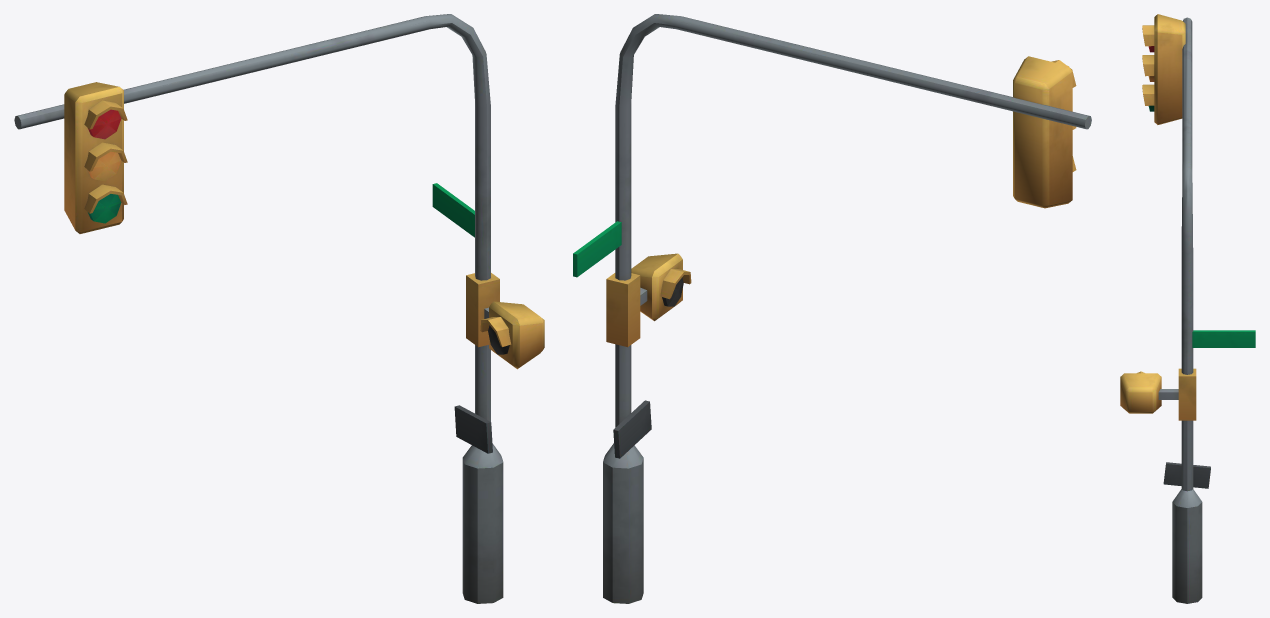
The model's file is trafficlight_C.glb.
3 views of the same model, side by side, from view 1: azimuth 30°, elevation 25°; view 2: azimuth 150°, elevation 25°; view 3: azimuth 270°, elevation 25° (orthographic). The views are drawn at different scales.
Parts seen in each view (by area): view 1: trafficlight_C; view 2: trafficlight_C; view 3: trafficlight_C.
Boxes of the visible parts, box(x1,y1,x2,y2) form: trafficlight_C: box(14, 14, 544, 603); trafficlight_C: box(573, 14, 1091, 603); trafficlight_C: box(1120, 14, 1255, 603).
Bounding box in the file's own units: 0.7977 × 0.9695 × 0.2716.
Materials: 1 (1 with a texture image).
